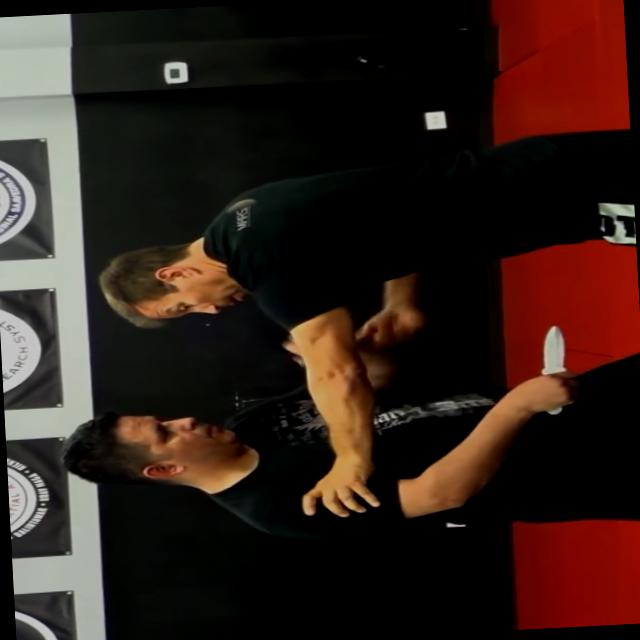knife: (524, 316, 579, 421)
